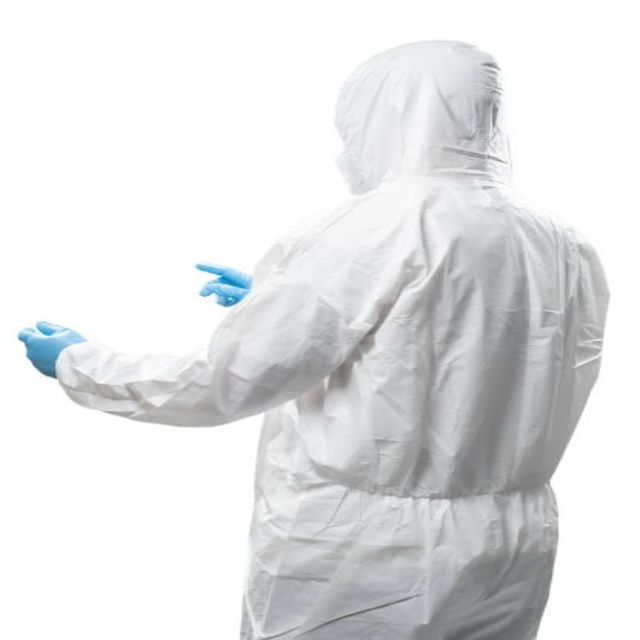Guantes: (18, 320, 90, 377), (195, 262, 254, 307)
